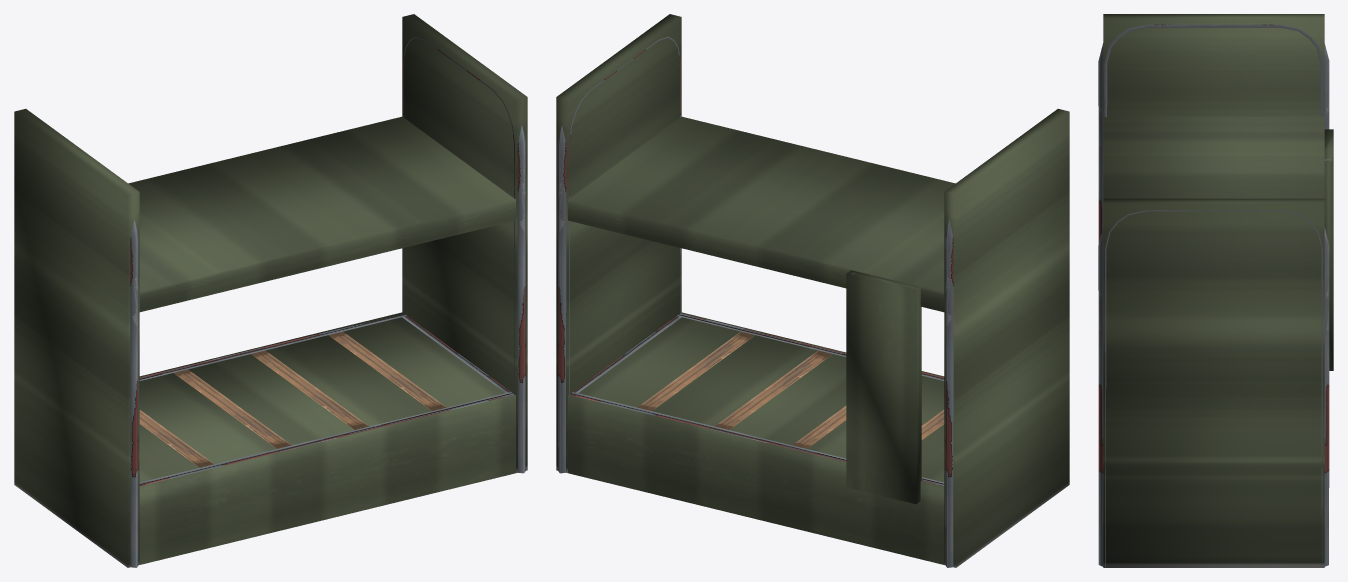
Rendered from bed04_H.fbx.
3 views of the same model, side by side, from view 1: azimuth 30°, elevation 25°; view 2: azimuth 150°, elevation 25°; view 3: azimuth 270°, elevation 25° (orthographic). The views are drawn at different scales.
Visible parts, largest first — view 1: bed04_H_COL, bed04_H; view 2: bed04_H_COL, bed04_H; view 3: bed04_H_COL, bed04_H.
Boxes of the visible parts, x1=… form: bed04_H_COL: x1=14, y1=14, x2=527, y2=567; bed04_H: x1=130, y1=36, x2=526, y2=567; bed04_H_COL: x1=556, y1=14, x2=1069, y2=567; bed04_H: x1=557, y1=36, x2=953, y2=567; bed04_H_COL: x1=1103, y1=14, x2=1333, y2=567; bed04_H: x1=1098, y1=24, x2=1332, y2=567.
Bounding box in the file's own units: 216 × 192 × 112.
